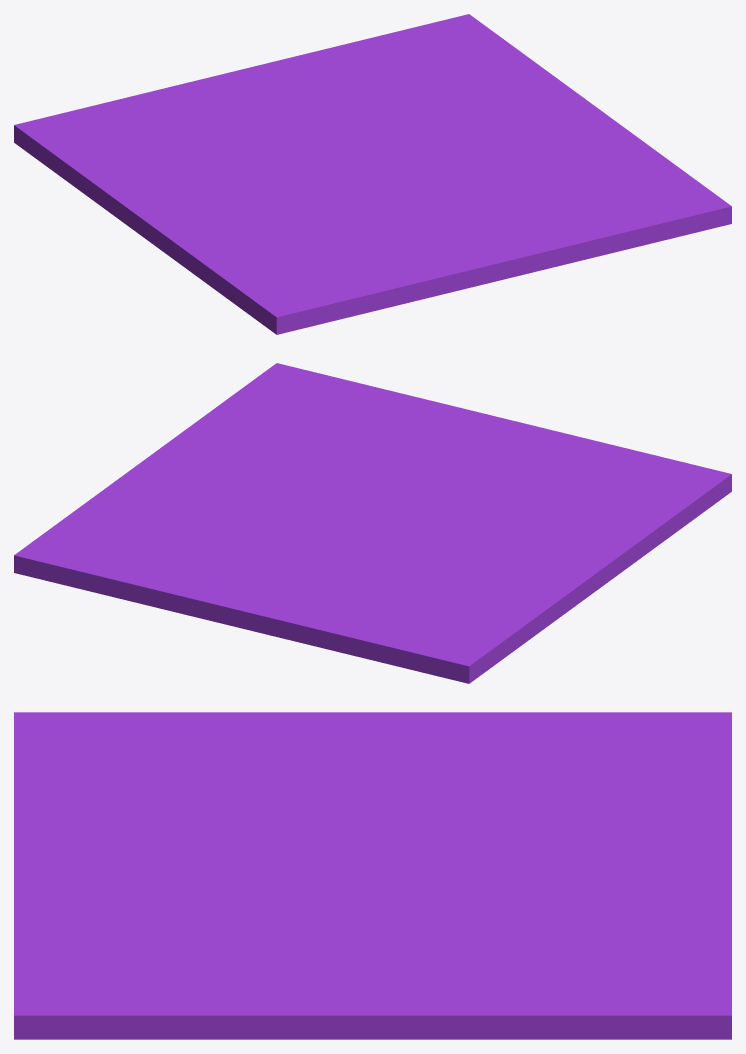
Rendered from Platform_45_chunks.fbx.
3 renders of one model, top to bottom at view 1: azimuth 30°, elevation 25°; view 2: azimuth 150°, elevation 25°; view 3: azimuth 270°, elevation 25°, orthographic. The views are drawn at different scales.
Visible parts, largest first — view 1: Platform_45_3, Platform_45_1, Platform_45_11, Platform_45_8, Platform_45_7, Platform_45_5, Platform_45_2, Platform_45_13, Platform_45_10, Platform_45_12, Platform_45_0, Platform_45_14 (+3 smaller); view 2: Platform_45_11, Platform_45_3, Platform_45_8, Platform_45_1, Platform_45_7, Platform_45_13, Platform_45_5, Platform_45_2, Platform_45_12, Platform_45_10, Platform_45_0, Platform_45_14 (+3 smaller); view 3: Platform_45_3, Platform_45_7, Platform_45_11, Platform_45_1, Platform_45_8, Platform_45_13, Platform_45_5, Platform_45_0, Platform_45_2, Platform_45_10, Platform_45_12, Platform_45_14 (+3 smaller).
Part boxes in pixels (x1=…): Platform_45_3: x1=469, y1=162, x2=731, y2=272; Platform_45_1: x1=257, y1=225, x2=537, y2=334; Platform_45_11: x1=14, y1=87, x2=242, y2=208; Platform_45_8: x1=104, y1=175, x2=310, y2=324; Platform_45_7: x1=409, y1=47, x2=623, y2=155; Platform_45_5: x1=213, y1=104, x2=459, y2=165; Platform_45_2: x1=302, y1=159, x2=464, y2=246; Platform_45_13: x1=292, y1=14, x2=514, y2=76; Platform_45_10: x1=230, y1=154, x2=367, y2=235; Platform_45_12: x1=170, y1=57, x2=338, y2=106; Platform_45_0: x1=440, y1=127, x2=684, y2=171; Platform_45_14: x1=328, y1=63, x2=487, y2=109; Platform_45_11: x1=307, y1=562, x2=566, y2=683; Platform_45_3: x1=230, y1=363, x2=471, y2=470; Platform_45_8: x1=464, y1=488, x2=718, y2=617; Platform_45_1: x1=451, y1=410, x2=731, y2=500; Platform_45_7: x1=60, y1=442, x2=309, y2=529; Platform_45_13: x1=14, y1=522, x2=199, y2=616; Platform_45_5: x1=239, y1=488, x2=374, y2=603; Platform_45_2: x1=318, y1=461, x2=573, y2=516; Platform_45_12: x1=191, y1=560, x2=326, y2=644; Platform_45_10: x1=366, y1=502, x2=547, y2=563; Platform_45_0: x1=169, y1=397, x2=326, y2=493; Platform_45_14: x1=105, y1=524, x2=274, y2=565; Platform_45_3: x1=14, y1=870, x2=295, y2=1039; Platform_45_7: x1=310, y1=914, x2=610, y2=1039; Platform_45_11: x1=445, y1=712, x2=731, y2=826; Platform_45_1: x1=14, y1=712, x2=193, y2=885; Platform_45_8: x1=69, y1=712, x2=465, y2=785; Platform_45_13: x1=582, y1=897, x2=731, y2=1039; Platform_45_5: x1=341, y1=826, x2=655, y2=920; Platform_45_0: x1=67, y1=901, x2=344, y2=1039; Platform_45_2: x1=161, y1=773, x2=376, y2=912; Platform_45_10: x1=219, y1=785, x2=468, y2=861; Platform_45_12: x1=568, y1=816, x2=731, y2=902; Platform_45_14: x1=507, y1=881, x2=623, y2=991.
Bounding box in the file's own units: 810 × 29.87 × 810.
